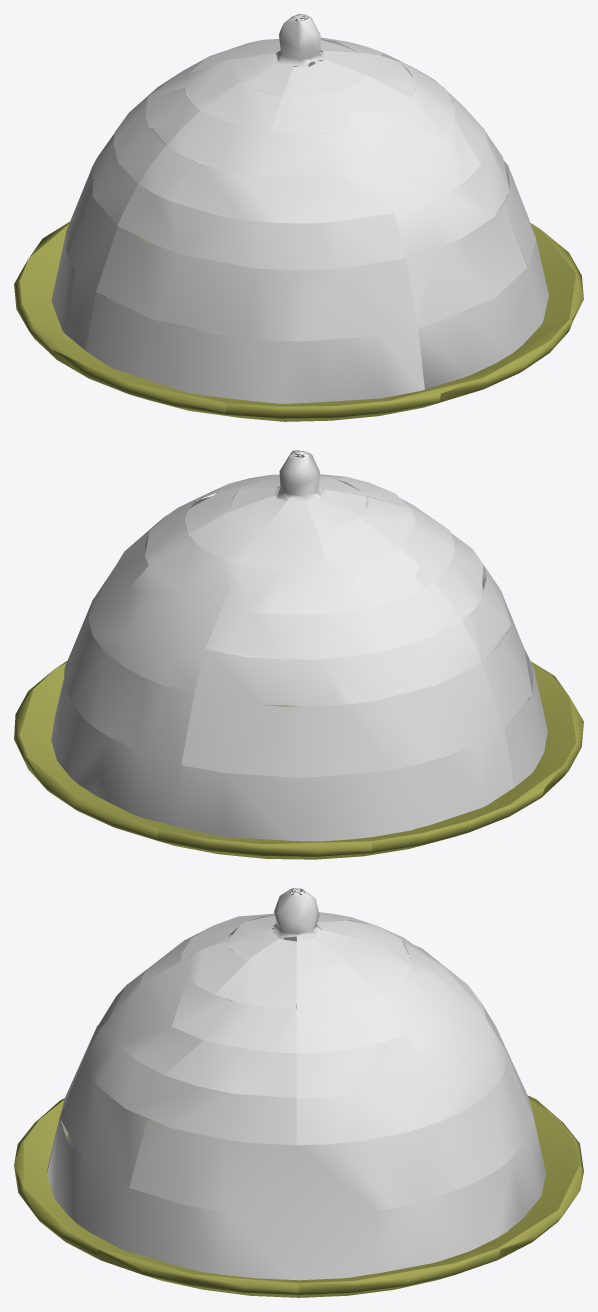
The model's file is Glass_dome_LOD1.fbx.
The picture shows the model from 3 angles, top to bottom: view 1: azimuth 30°, elevation 25°; view 2: azimuth 150°, elevation 25°; view 3: azimuth 270°, elevation 25°; orthographic projection.
Visible parts, largest first — view 1: Glass_Material_001_0; view 2: Glass_Material_001_0; view 3: Glass_Material_001_0.
Part boxes in pixels (x1=…): Glass_Material_001_0: x1=14, y1=14, x2=583, y2=421; Glass_Material_001_0: x1=14, y1=450, x2=583, y2=859; Glass_Material_001_0: x1=14, y1=888, x2=583, y2=1297.
Bounding box in the file's own units: 188 × 111 × 188.
